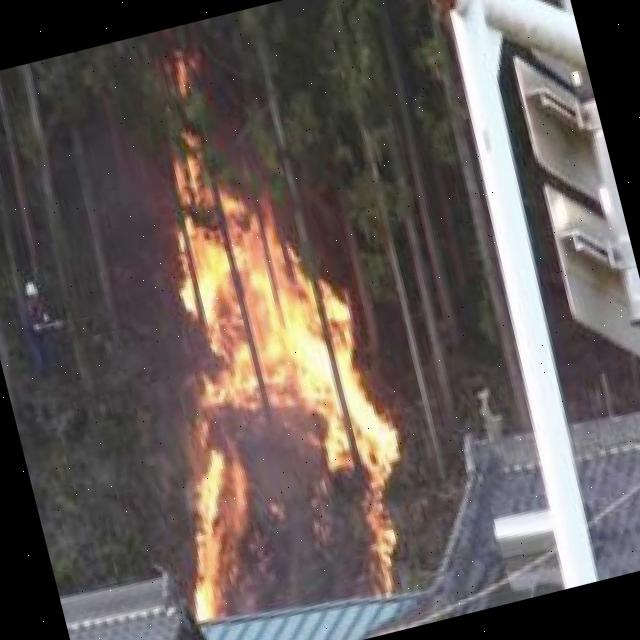fire: (100, 135, 425, 633)
